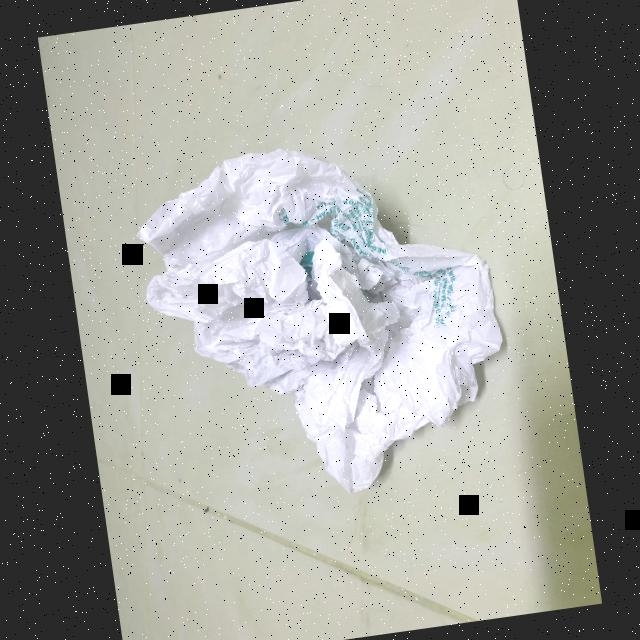plastic_bag: (114, 111, 530, 534)
